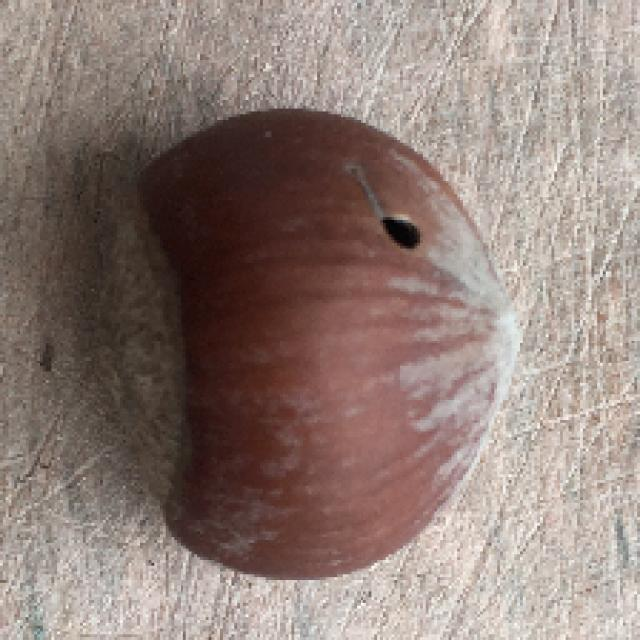damagedHazelnut: (92, 106, 512, 583)
